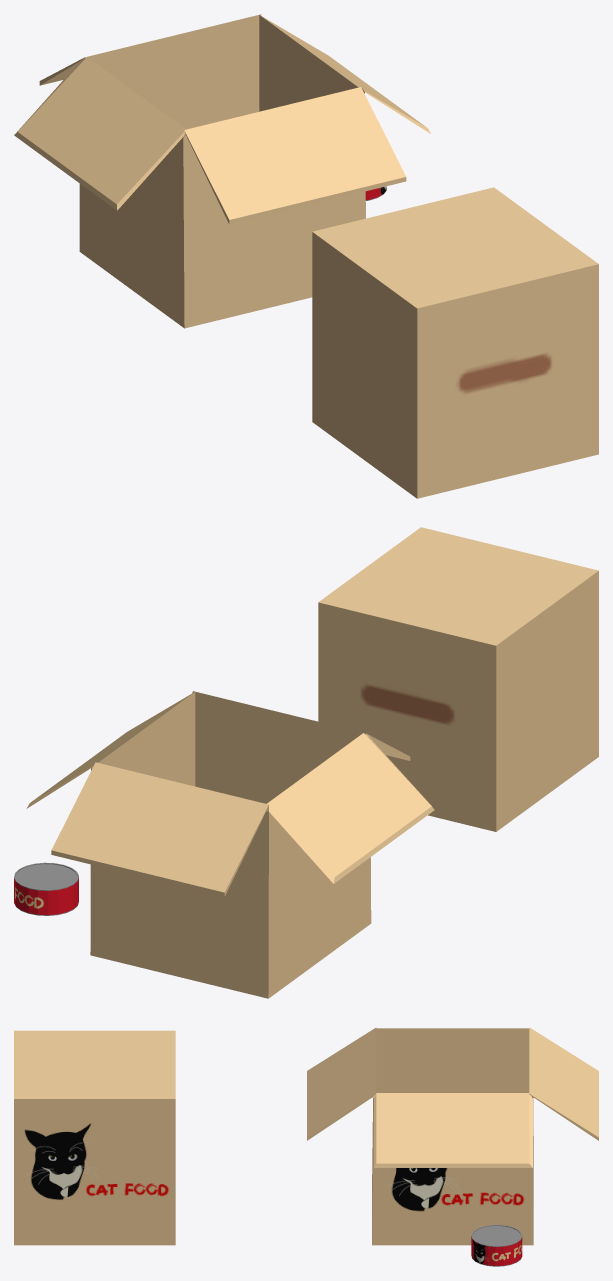
Rendered from catfood and Box.fbx.
The picture shows the model from 3 angles, top to bottom: view 1: azimuth 30°, elevation 25°; view 2: azimuth 150°, elevation 25°; view 3: azimuth 270°, elevation 25°; orthographic projection. The views are drawn at different scales.
Parts seen in each view (by area): view 1: Box2, Box1; view 2: Box2, Box1, catfd:catfood; view 3: Box2, Box1, catfd:catfood.
Part boxes in pixels (bbox=[...]): Box2: bbox=[14, 14, 430, 328]; Box1: bbox=[312, 187, 598, 498]; Box2: bbox=[26, 691, 434, 998]; Box1: bbox=[318, 527, 598, 831]; catfd:catfood: bbox=[14, 862, 78, 915]; Box2: bbox=[307, 1027, 598, 1245]; Box1: bbox=[14, 1030, 175, 1245]; catfd:catfood: bbox=[471, 1225, 522, 1266].
Size of the model in its own units: 190 by 103 by 362.
3 materials, 3 textured.
